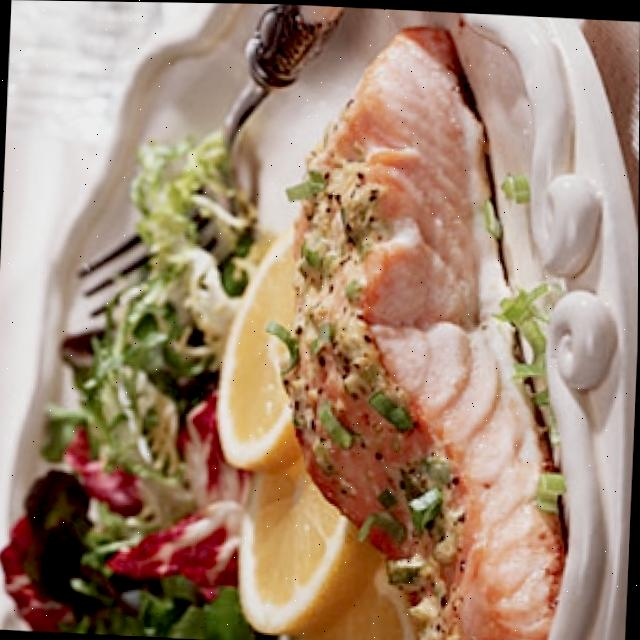熟制海鲜: (150, 19, 600, 640)
